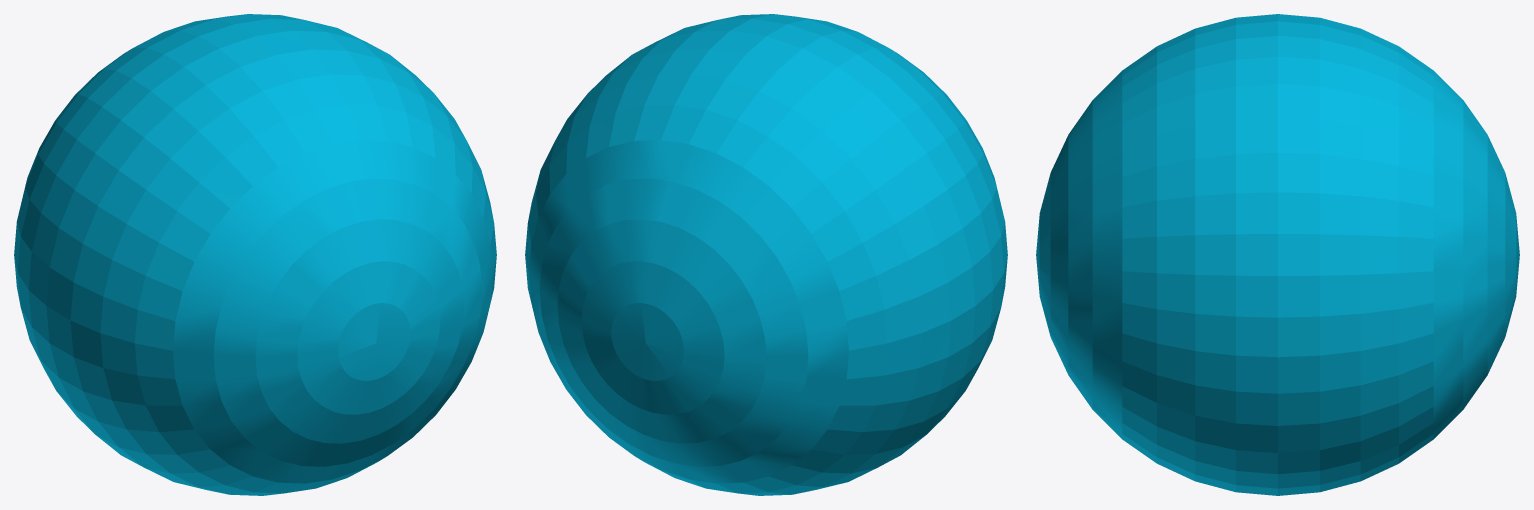
The model's file is nettuno.gltf.
3 views of the same model, side by side, from view 1: azimuth 30°, elevation 25°; view 2: azimuth 150°, elevation 25°; view 3: azimuth 270°, elevation 25° (orthographic).
Parts seen in each view (by area): view 1: group_0_1215712; view 2: group_0_1215712; view 3: group_0_1215712.
Boxes of the visible parts, x1,y1,x2,y2 form: group_0_1215712: (14, 14, 496, 495); group_0_1215712: (525, 14, 1007, 495); group_0_1215712: (1036, 14, 1519, 495).
Bounding box in the file's own units: 0.12 × 0.12 × 0.12.
